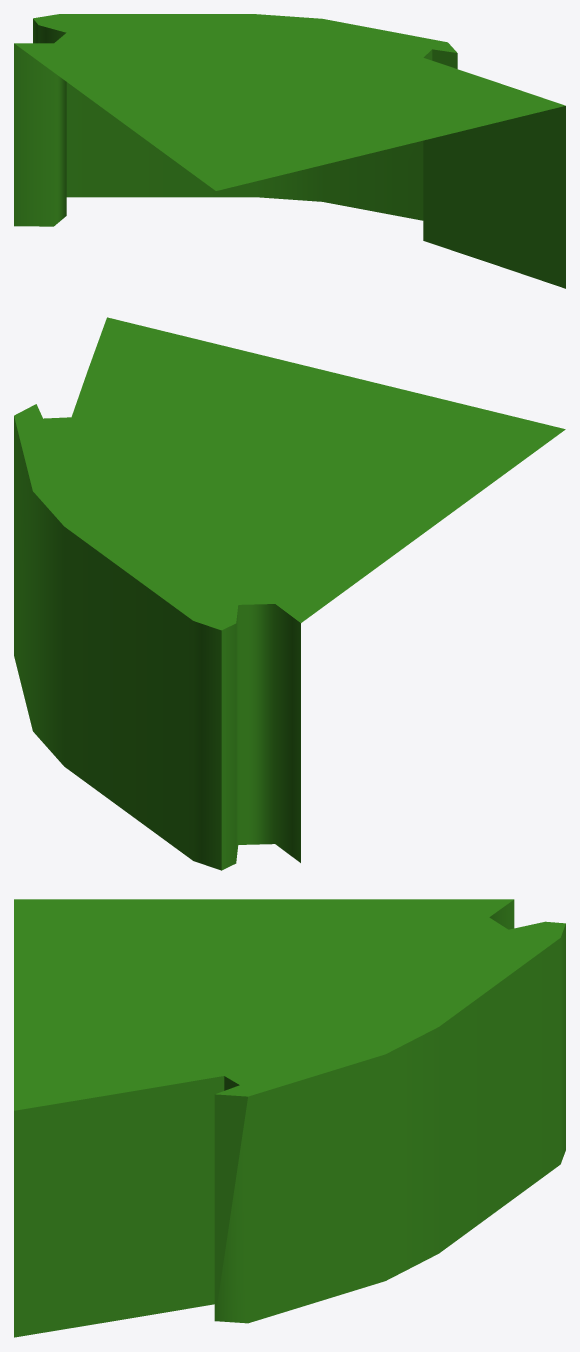
The model's file is grass_corner_detail_1_tile.fbx.
The picture shows the model from 3 angles, top to bottom: view 1: azimuth 30°, elevation 25°; view 2: azimuth 150°, elevation 25°; view 3: azimuth 270°, elevation 25°; orthographic projection. The views are drawn at different scales.
Visible parts, largest first — view 1: corner_detail_tile; view 2: corner_detail_tile; view 3: corner_detail_tile.
Part boxes in pixels (x1,y1,x2,y2): corner_detail_tile: (14,14,565,288); corner_detail_tile: (14,317,565,870); corner_detail_tile: (14,899,565,1337).
Size of the model in its own units: 1000 by 500 by 1103.
